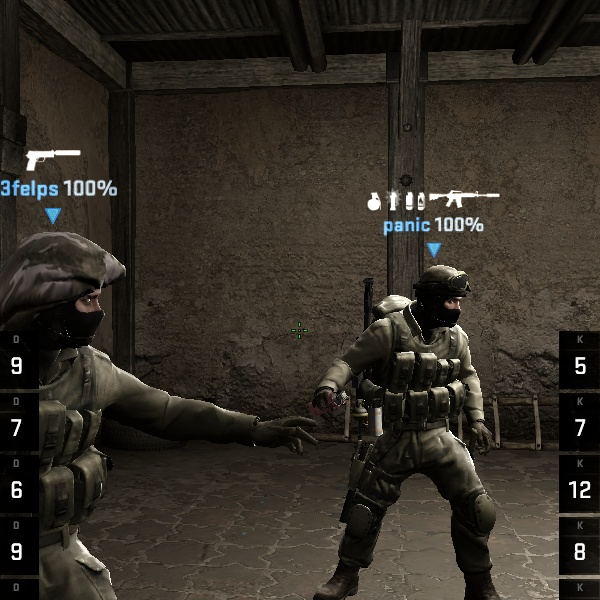ct_body: (322, 254, 516, 595), (0, 231, 175, 600)
ct_head: (0, 228, 129, 375), (397, 262, 472, 336)
